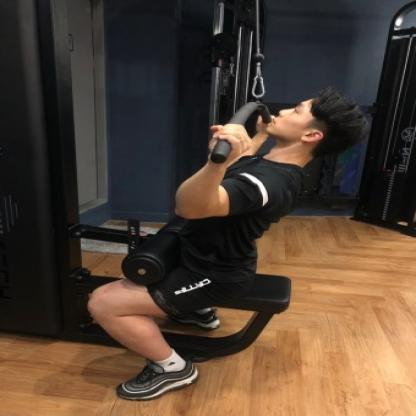Lat Pull Down: (0, 0, 379, 401)
